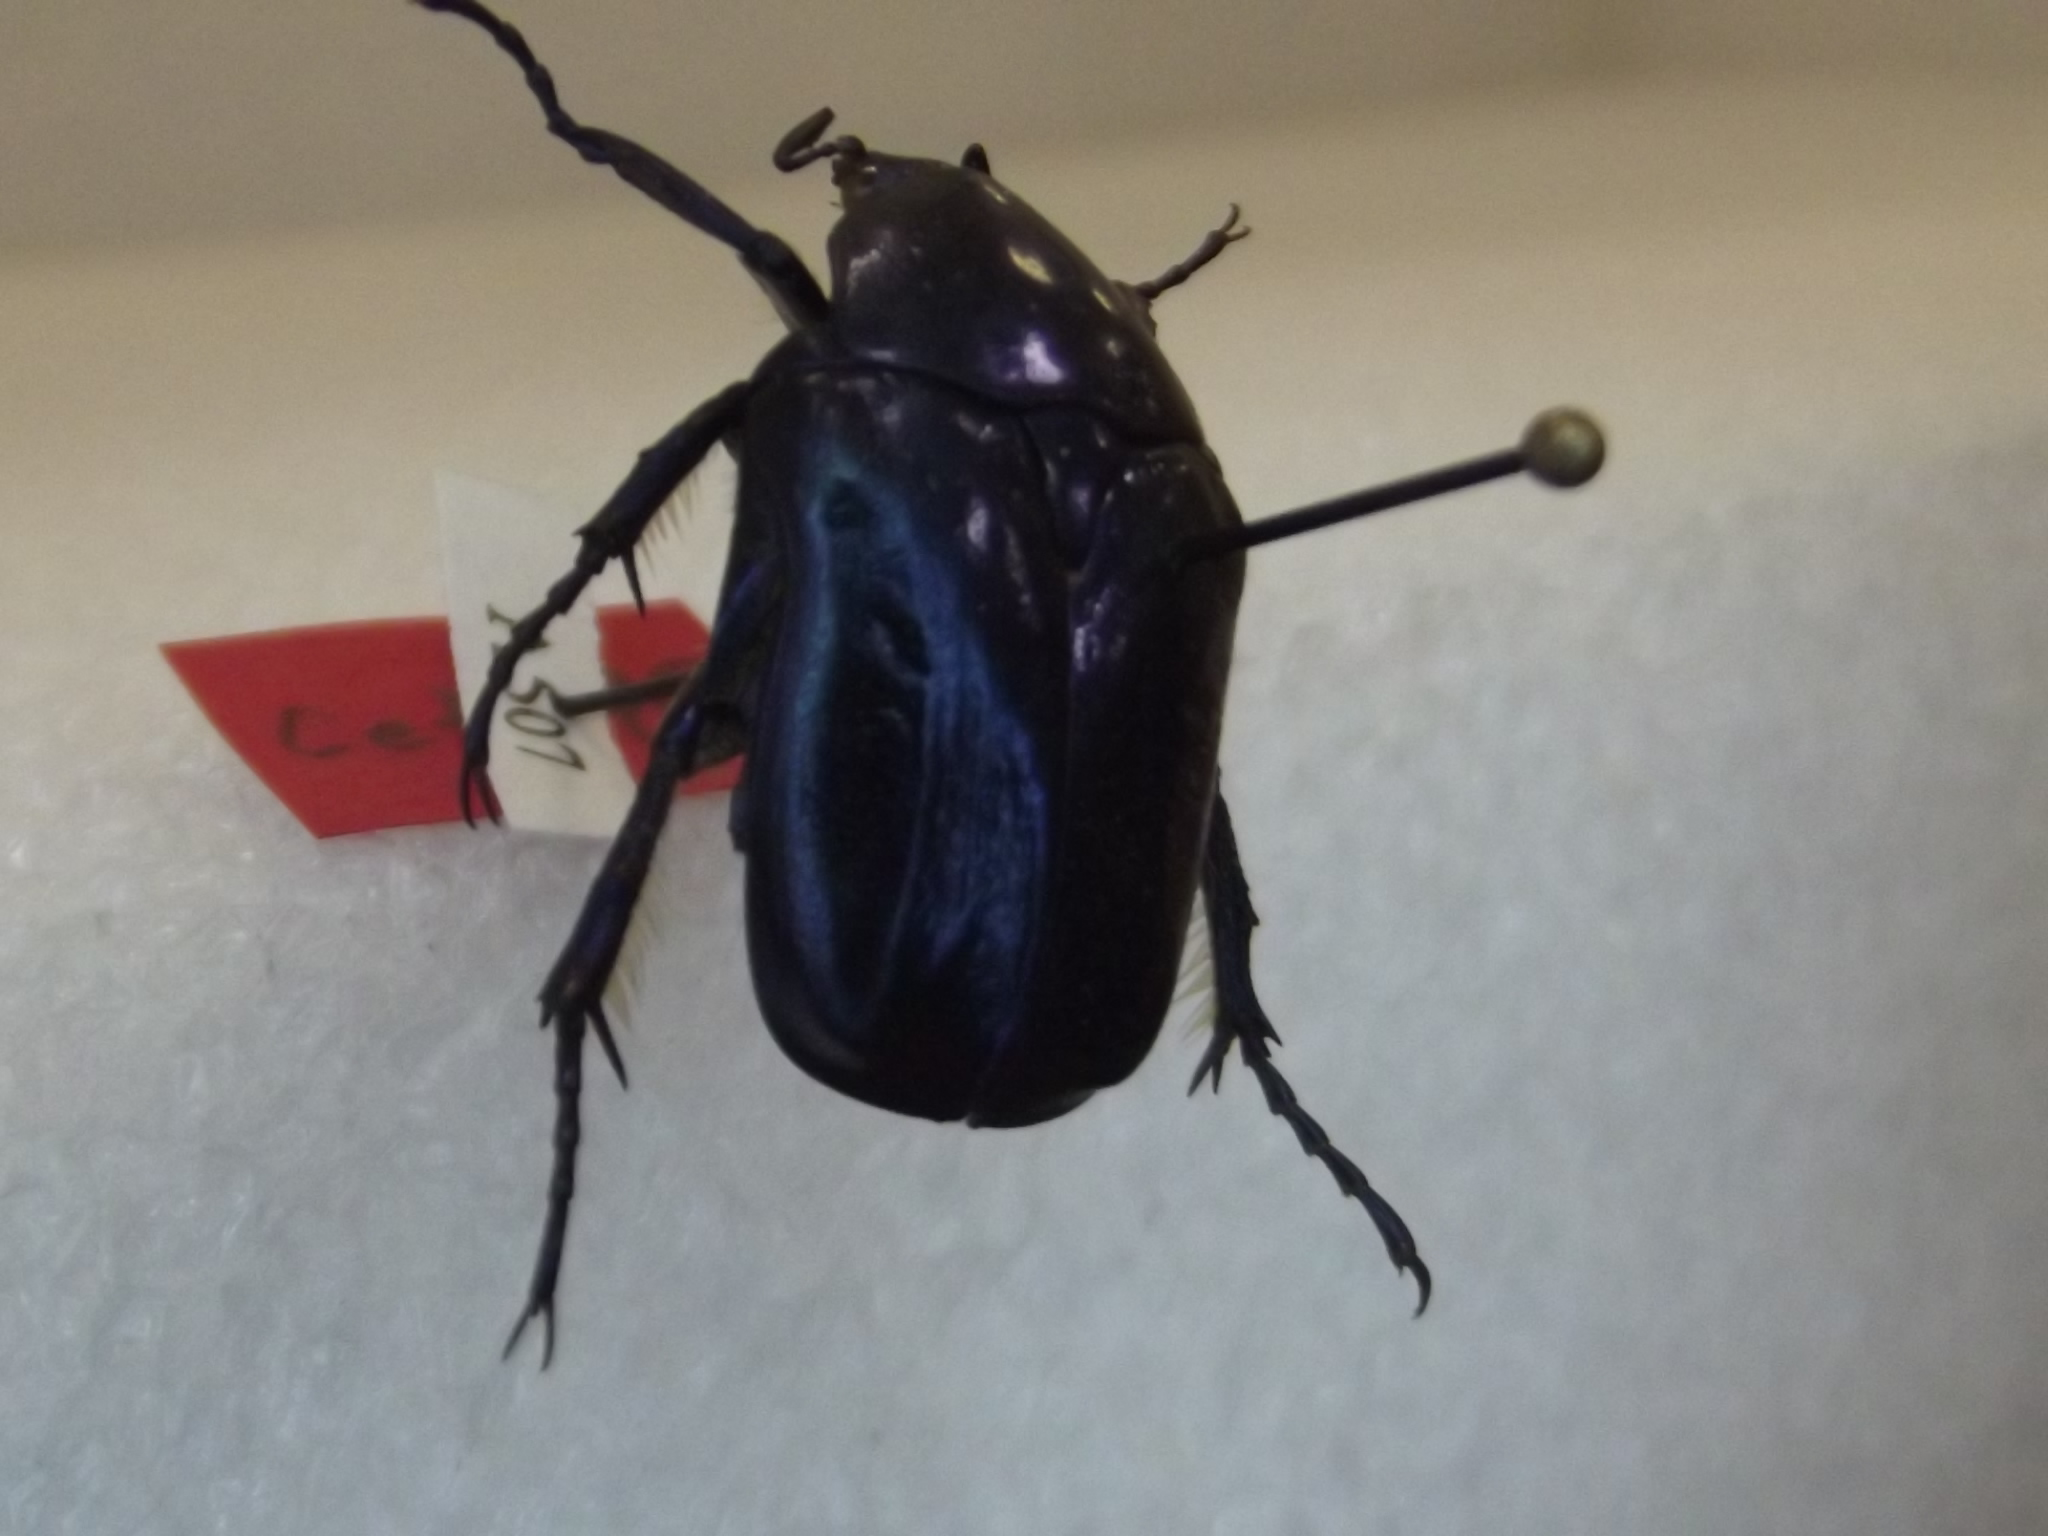Protaetia_besucheti: (398, 44, 1458, 1360)
